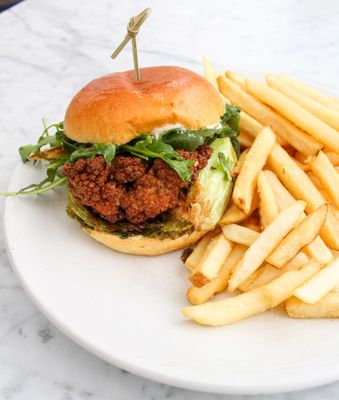soup: (17, 62, 242, 260)
